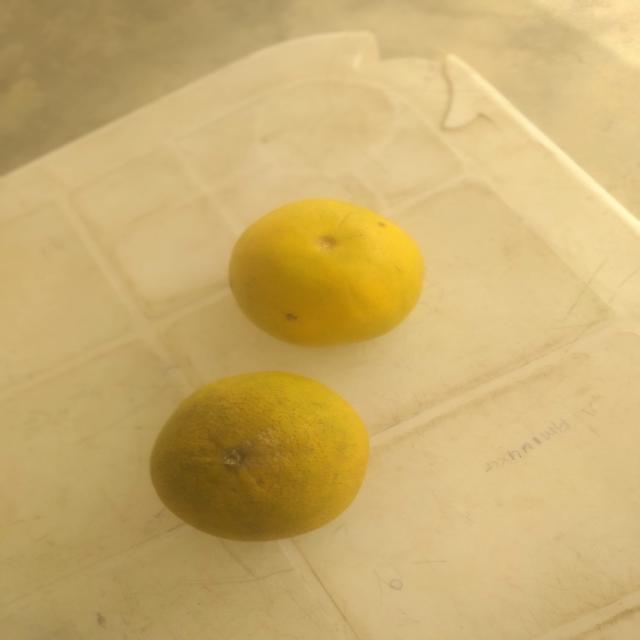Ripe orange: (175, 188, 434, 347), (149, 369, 376, 547)
